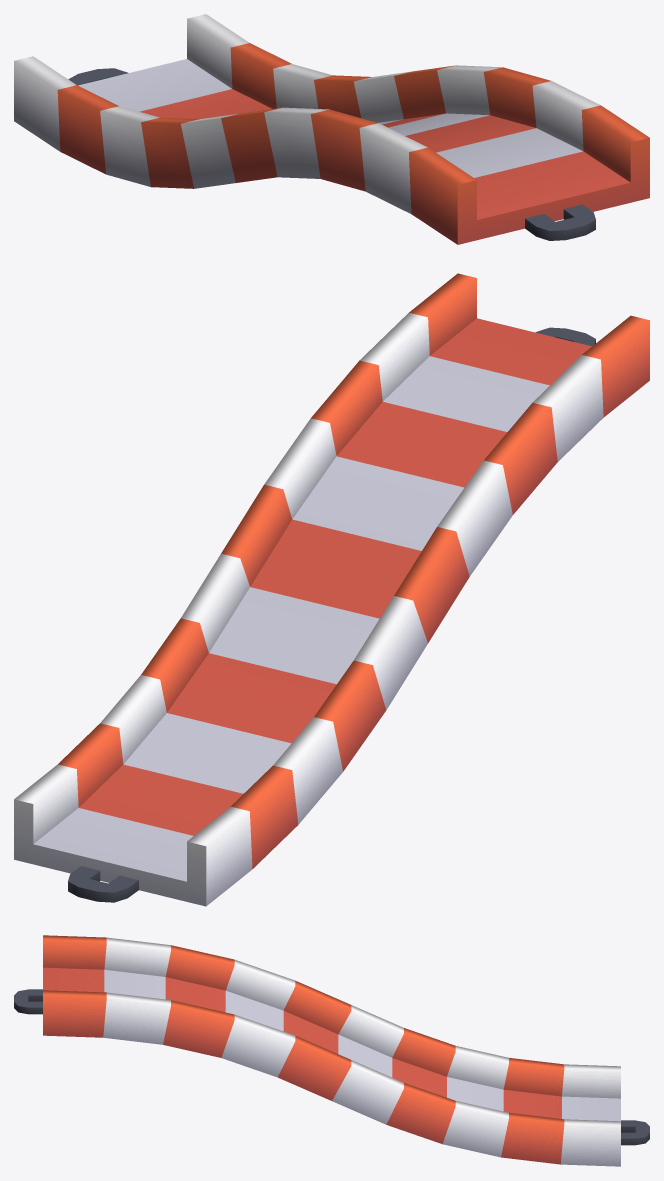
File: track-striped-narrow-straight-hill-complete.glb
The picture shows the model from 3 angles, top to bottom: view 1: azimuth 30°, elevation 25°; view 2: azimuth 150°, elevation 25°; view 3: azimuth 270°, elevation 25°; orthographic projection. The views are drawn at different scales.
Parts seen in each view (by area): view 1: track-striped-narrow-straight-hill-complete; view 2: track-striped-narrow-straight-hill-complete; view 3: track-striped-narrow-straight-hill-complete.
Part boxes in pixels (left/top/right/bottom): track-striped-narrow-straight-hill-complete: left=14, top=14, right=649, bottom=244; track-striped-narrow-straight-hill-complete: left=14, top=273, right=649, bottom=906; track-striped-narrow-straight-hill-complete: left=14, top=935, right=649, bottom=1166.
Size of the model in its own units: 3 by 3.9 by 13.2.
Materials: 1 (1 with a texture image).
